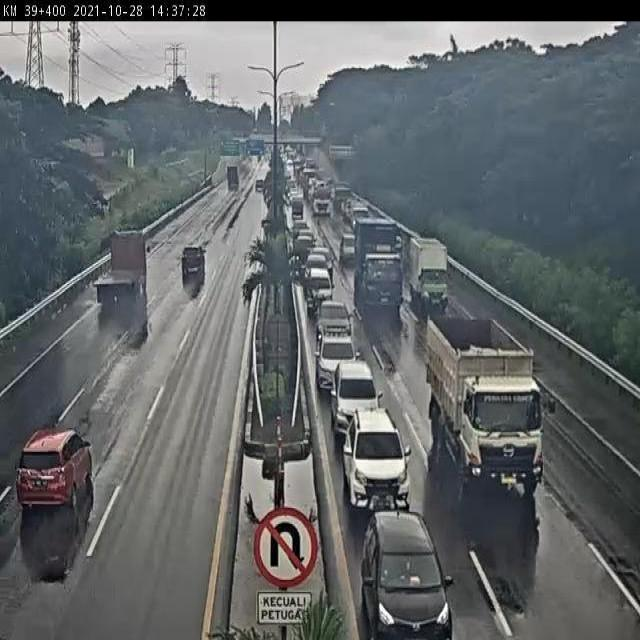big truck: (427, 315, 556, 497), (354, 219, 405, 313), (96, 228, 151, 312)
car: (359, 509, 453, 640), (344, 409, 410, 515), (14, 431, 94, 512), (333, 360, 381, 440), (312, 328, 358, 391), (316, 300, 354, 347), (304, 262, 333, 310), (182, 245, 208, 275)
small truck: (411, 234, 450, 310)
